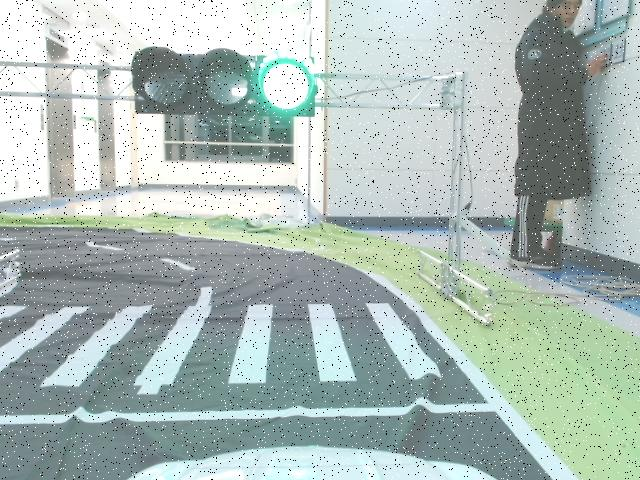crosswalk: (1, 303, 460, 384)
traffic light-green-: (132, 46, 317, 118)
